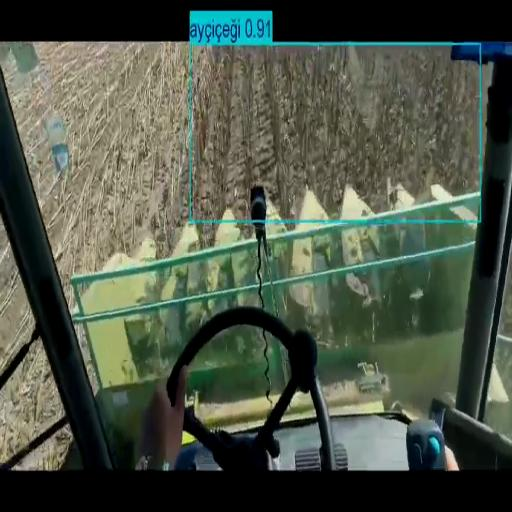ayc: (192, 46, 478, 217)
